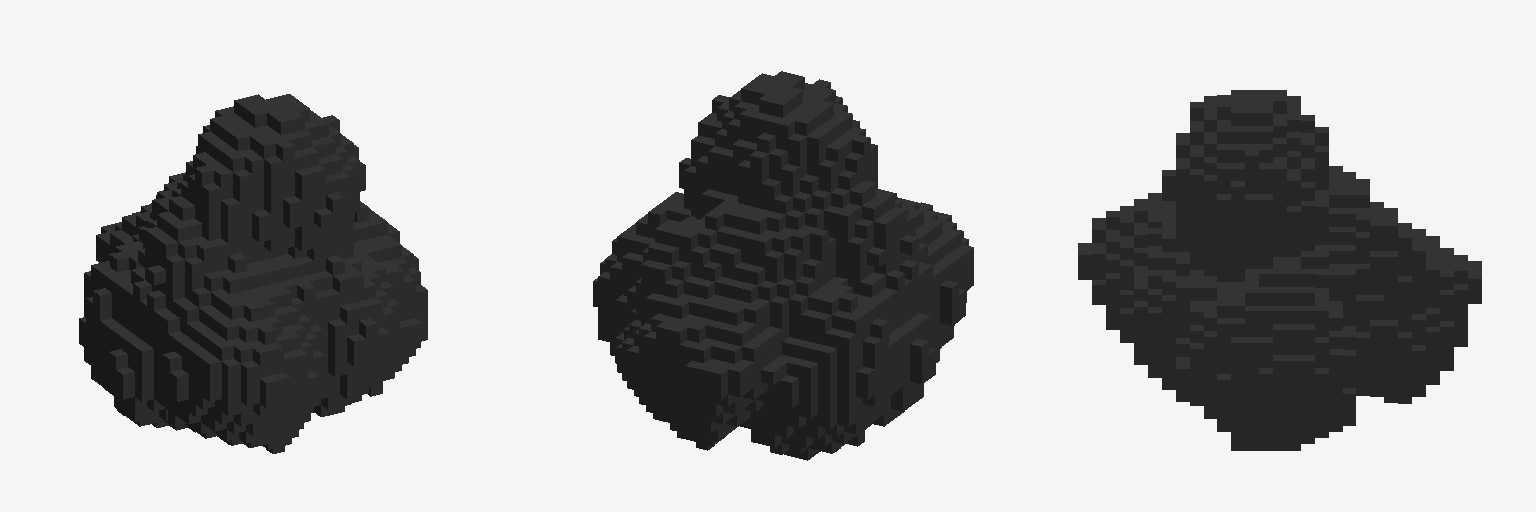
The model's file is Rock_10.obj.
3 views of the same model, side by side, from view 1: azimuth 30°, elevation 25°; view 2: azimuth 150°, elevation 25°; view 3: azimuth 270°, elevation 25° (orthographic).
Parts seen in each view (by area): view 1: Rock_10; view 2: Rock_10; view 3: Rock_10.
Boxes of the visible parts, x1,y1,x2,y2 form: Rock_10: [79, 94, 427, 453]; Rock_10: [593, 71, 973, 460]; Rock_10: [1078, 90, 1481, 450].
Size of the model in its own units: 5.2 by 5.2 by 6.03.